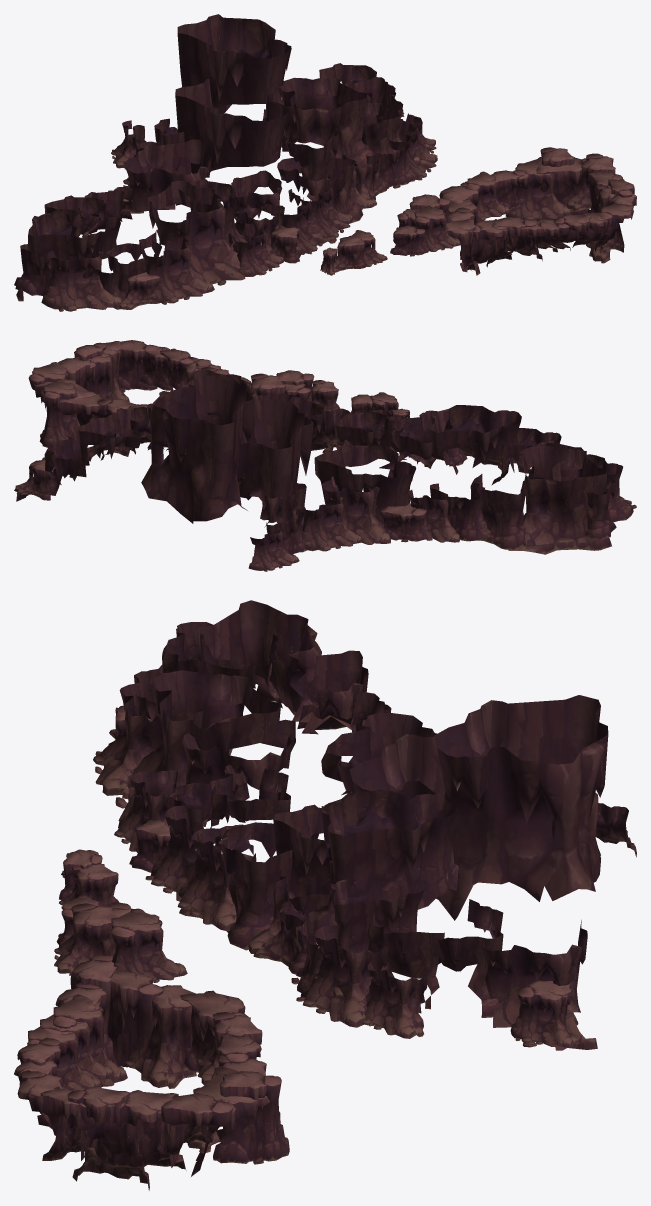
File: area6_shiqiang_02.FBX
The picture shows the model from 3 angles, top to bottom: view 1: azimuth 30°, elevation 25°; view 2: azimuth 150°, elevation 25°; view 3: azimuth 270°, elevation 25°; orthographic projection. The views are drawn at different scales.
Parts seen in each view (by area): view 1: area6_shiqiang_02; view 2: area6_shiqiang_02; view 3: area6_shiqiang_02.
Boxes of the visible parts, x1,y1,x2,y2 form: area6_shiqiang_02: [14, 14, 636, 311]; area6_shiqiang_02: [14, 340, 636, 571]; area6_shiqiang_02: [14, 600, 636, 1190].
Size of the model in its own units: 15498 by 4575 by 9236.
